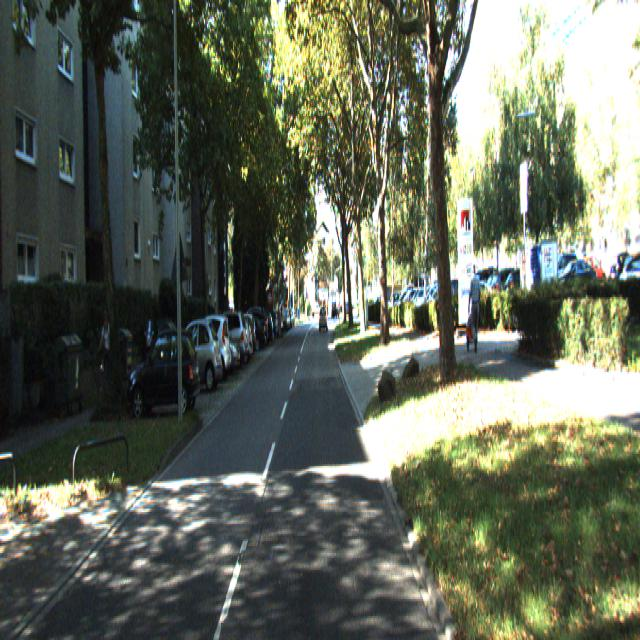Car: (127, 324, 201, 416), (167, 314, 223, 394), (181, 311, 233, 382), (200, 300, 248, 366), (227, 314, 257, 362), (234, 311, 266, 349)
